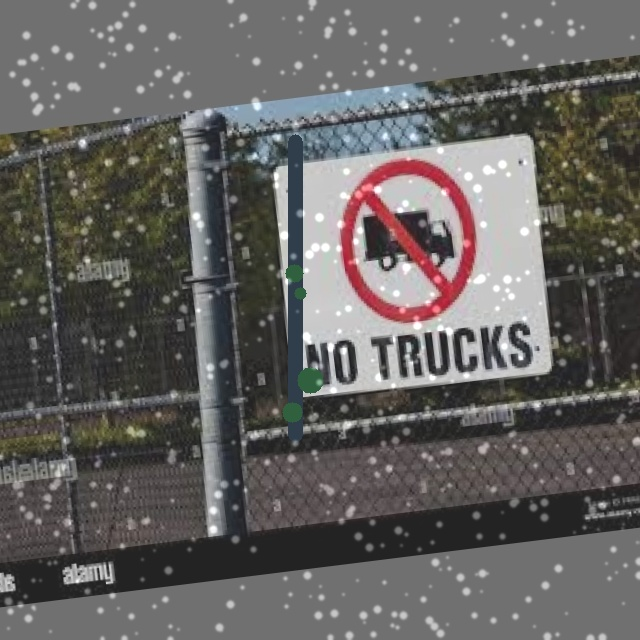Truck_Prohibited: (323, 146, 493, 335)
